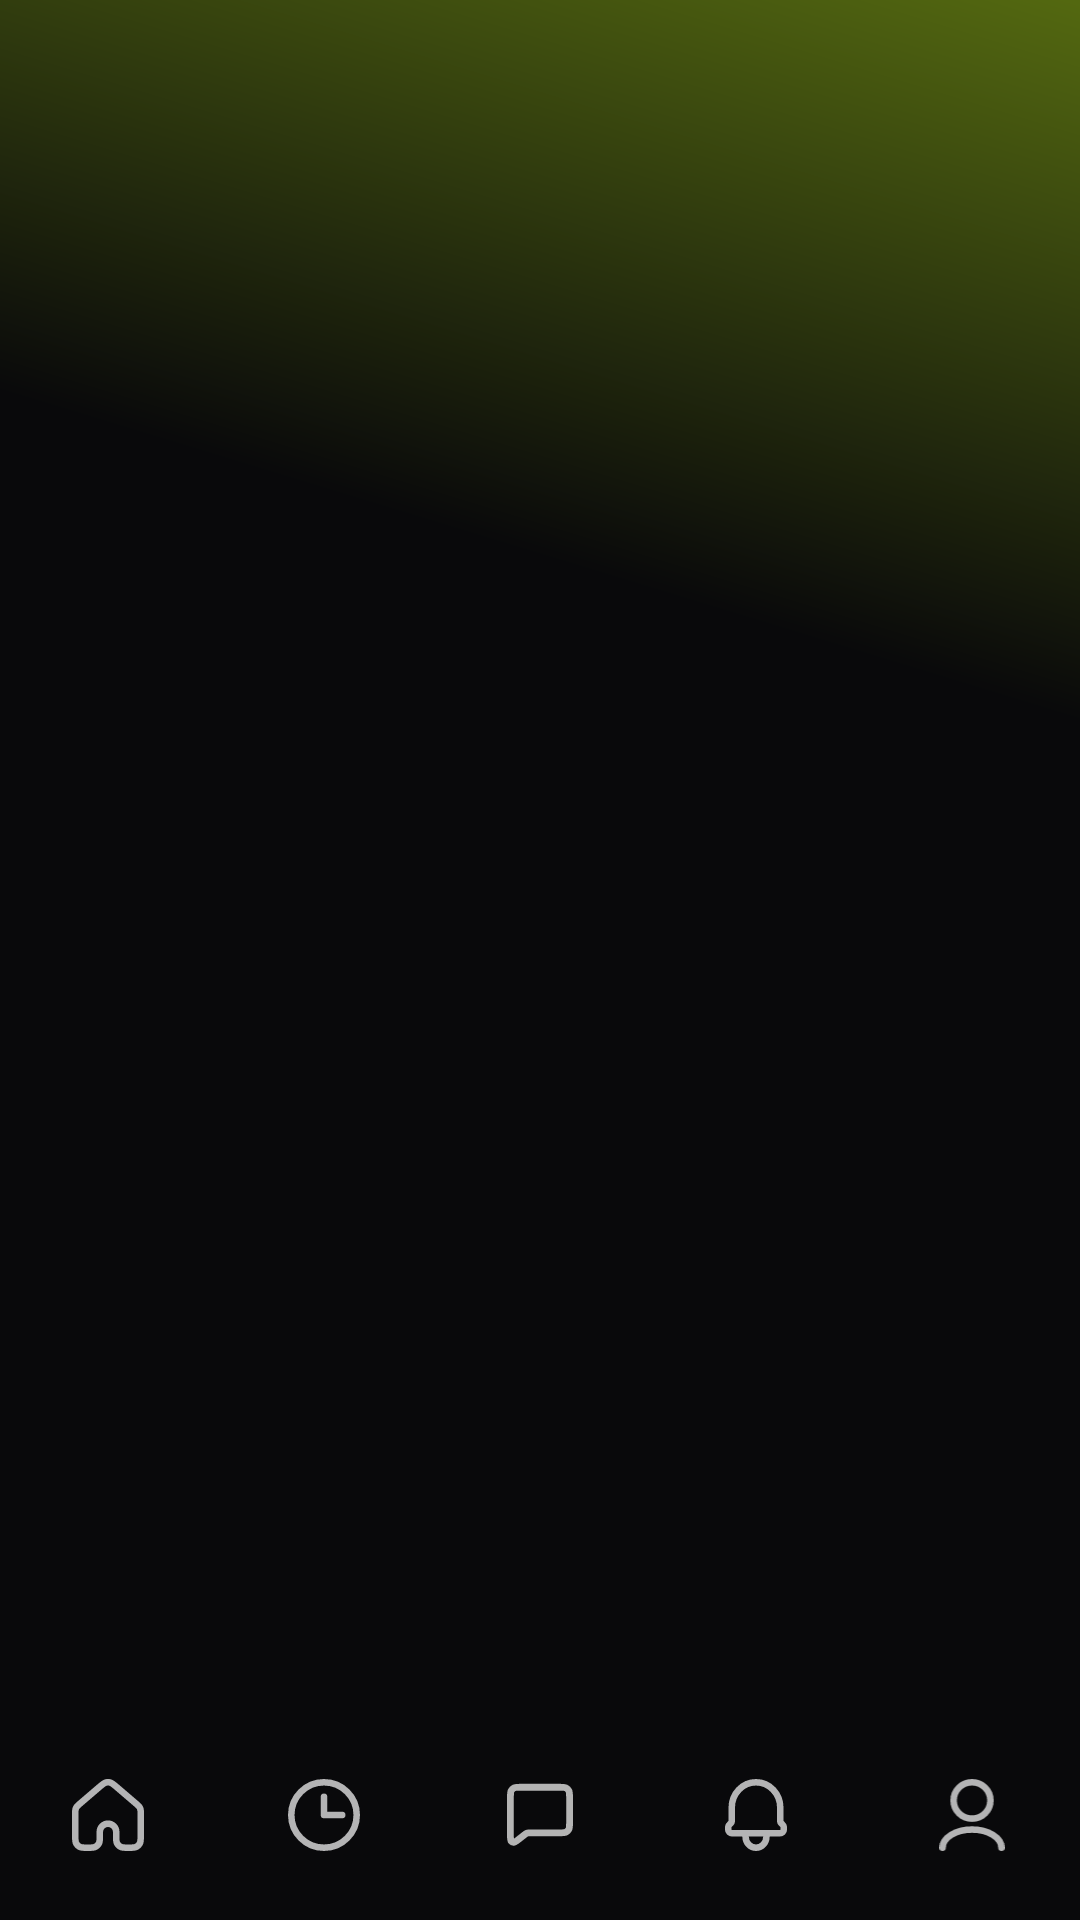

Where to tap for icons on this 1080 x 1920 app screen, as [x,y]:
chat: [540,1814]
history: [324,1815]
home: [108,1815]
notification: [756,1815]
profile: [972,1815]
